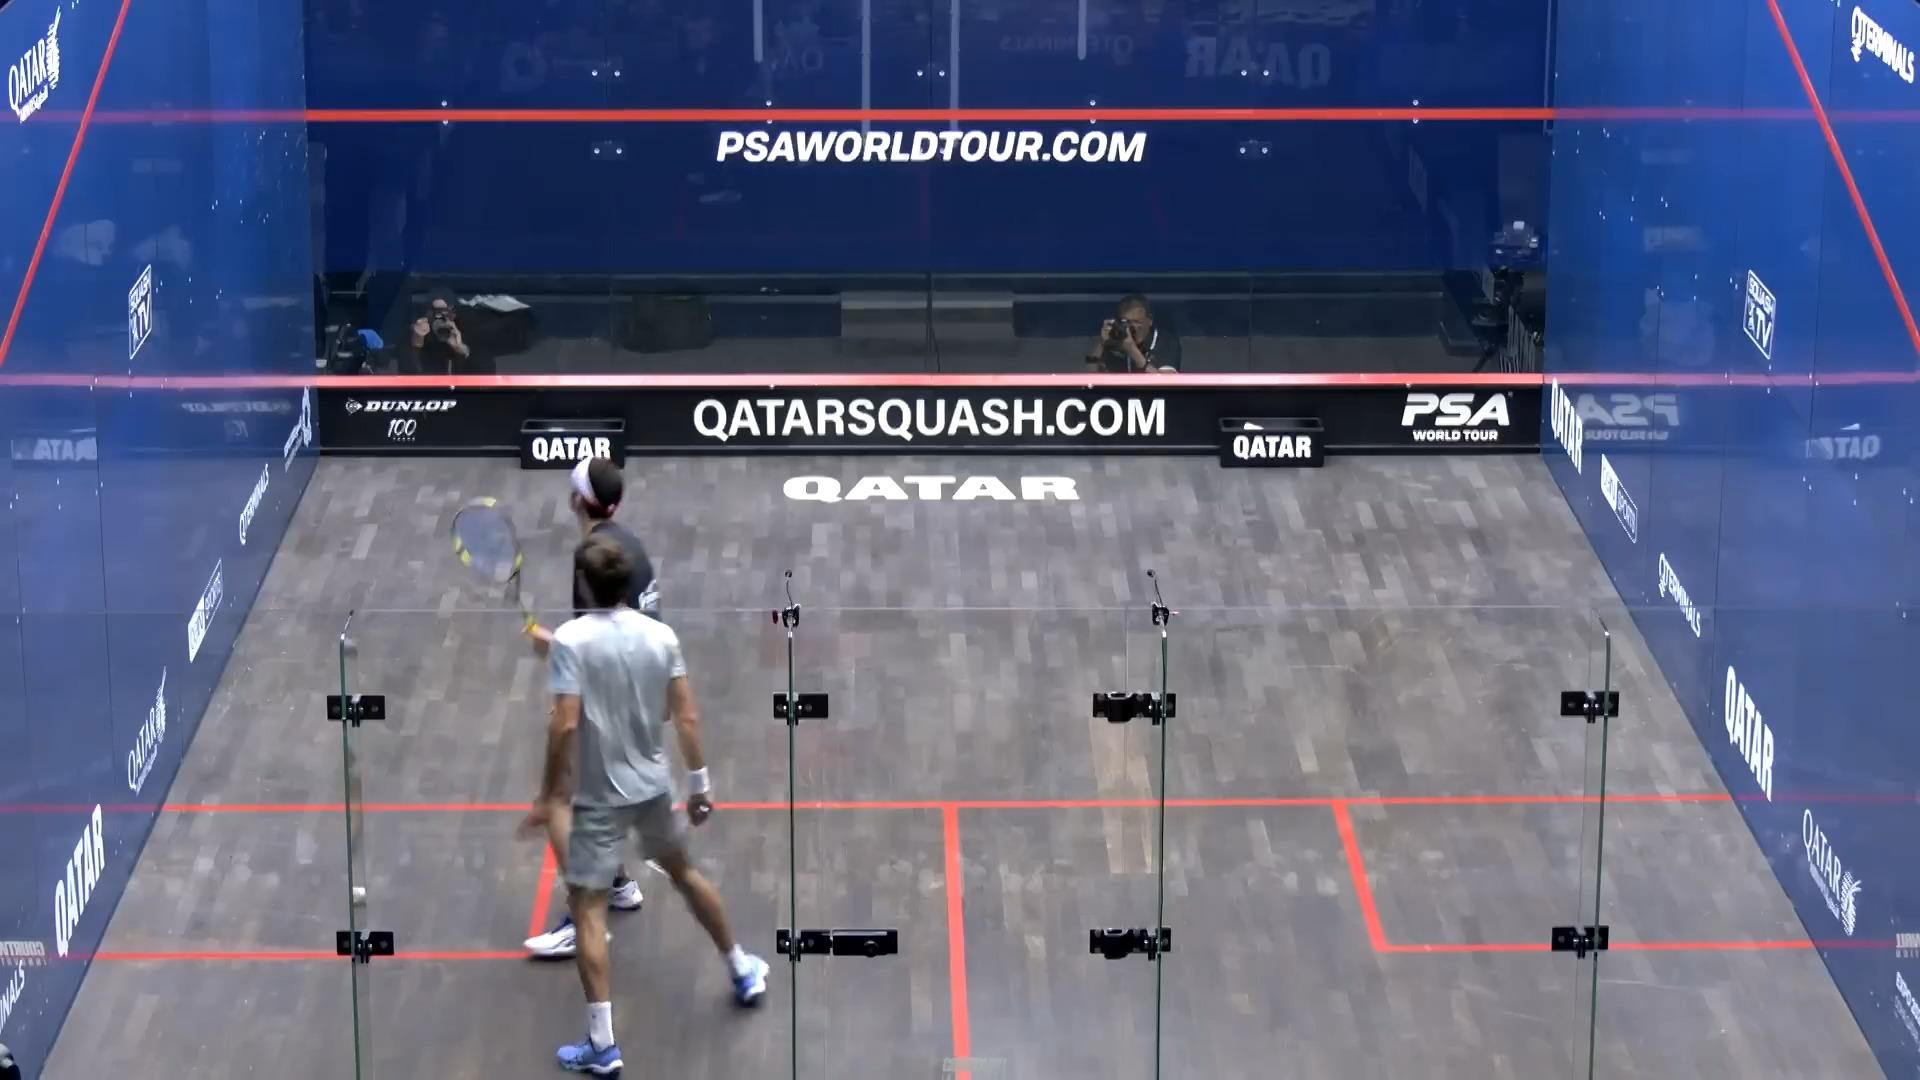Racket: (440, 493, 537, 629)
